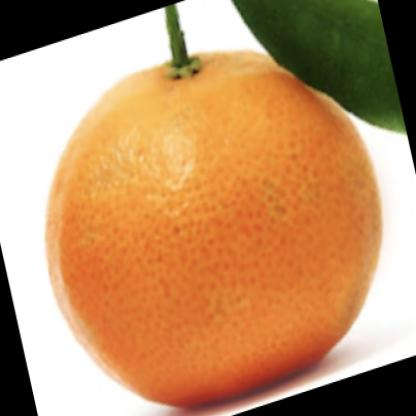orange: (39, 30, 395, 411)
